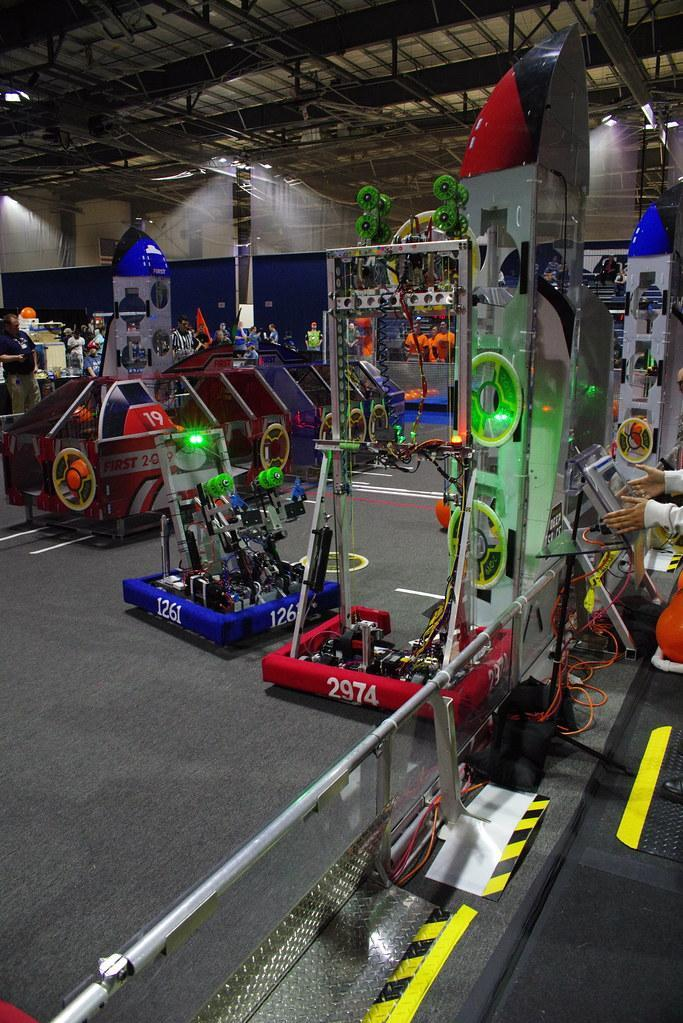robot: (254, 162, 518, 734), (118, 406, 350, 658)
